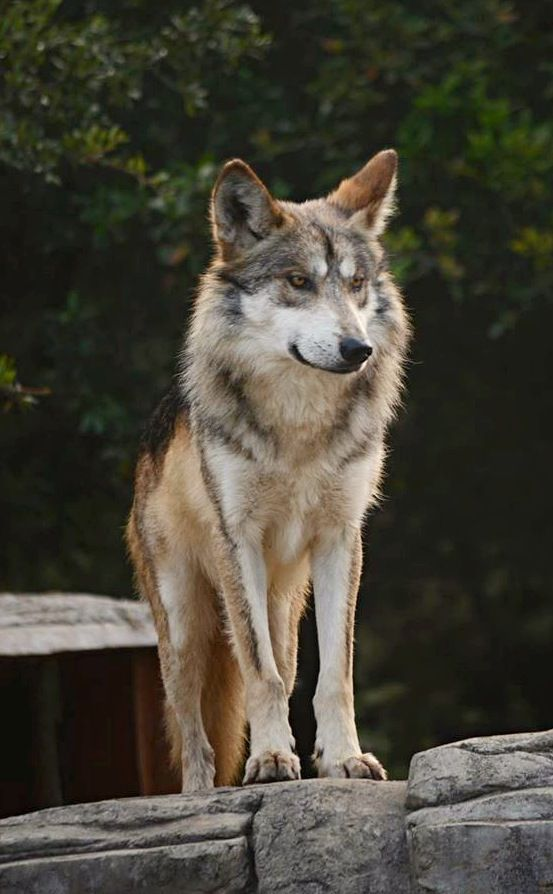Lobo: (125, 139, 419, 778)
